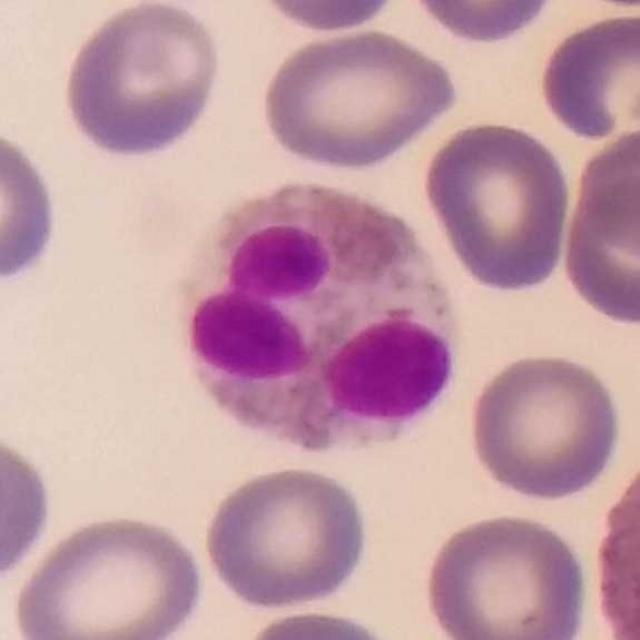Eosinophil: (173, 178, 464, 448), (585, 442, 640, 640)
RBC: (255, 24, 462, 174), (418, 116, 576, 297), (57, 0, 226, 164), (6, 507, 209, 640), (199, 462, 373, 613), (463, 347, 626, 504), (420, 507, 594, 639), (534, 8, 640, 146), (556, 170, 640, 329), (0, 120, 63, 290), (569, 121, 640, 266), (0, 425, 57, 592), (402, 0, 564, 48), (236, 605, 411, 640), (249, 0, 405, 35)
